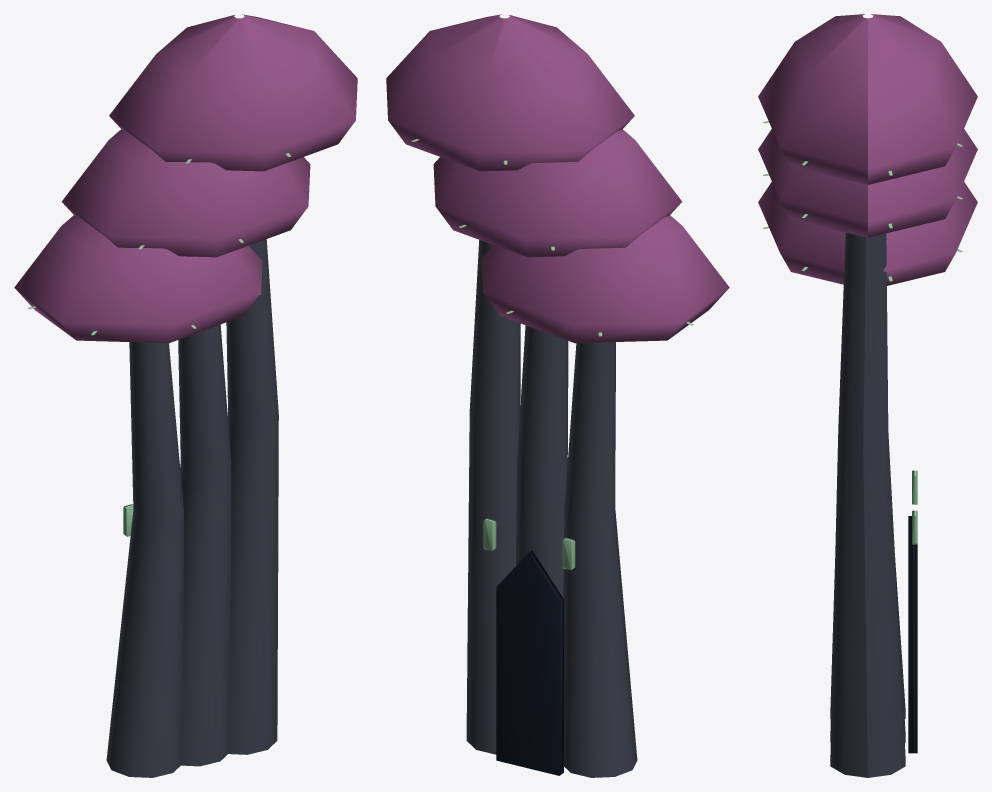
Rendered from prop_1_5.glb.
3 renders of one model, left to right at view 1: azimuth 30°, elevation 25°; view 2: azimuth 150°, elevation 25°; view 3: azimuth 270°, elevation 25°, orthographic. The views are drawn at different scales.
Parts seen in each view (by area): view 1: FungalCap (×3), FungalStem (×3); view 2: FungalCap (×3), FungalStem (×3), ShrineDoor; view 3: FungalCap (×3), FungalStem, ShrineDoor.
Part boxes in pixels (x1=…): FungalCap (×3): x1=14, y1=14, x2=357, y2=343; FungalStem (×3): x1=106, y1=239, x2=278, y2=777; FungalCap (×3): x1=386, y1=14, x2=729, y2=343; FungalStem (×3): x1=466, y1=240, x2=637, y2=777; ShrineDoor: x1=496, y1=550, x2=563, y2=775; FungalCap (×3): x1=758, y1=14, x2=977, y2=285; FungalStem: x1=830, y1=232, x2=905, y2=777; ShrineDoor: x1=908, y1=516, x2=917, y2=753.
Size of the model in its own units: 4.05 by 8.75 by 2.34.
